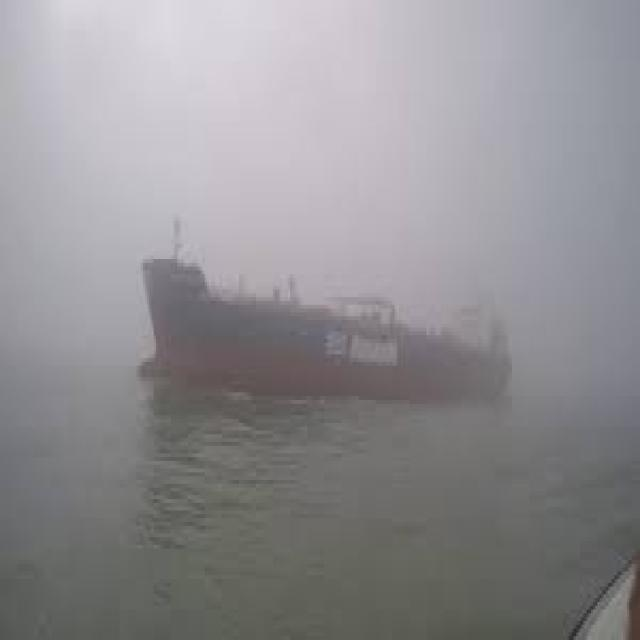cargoship: (138, 222, 518, 412)
